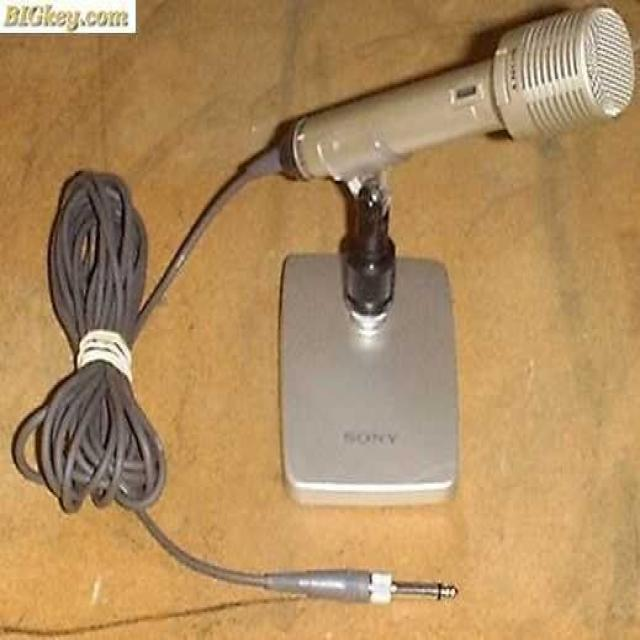microphone: (286, 3, 636, 187)
